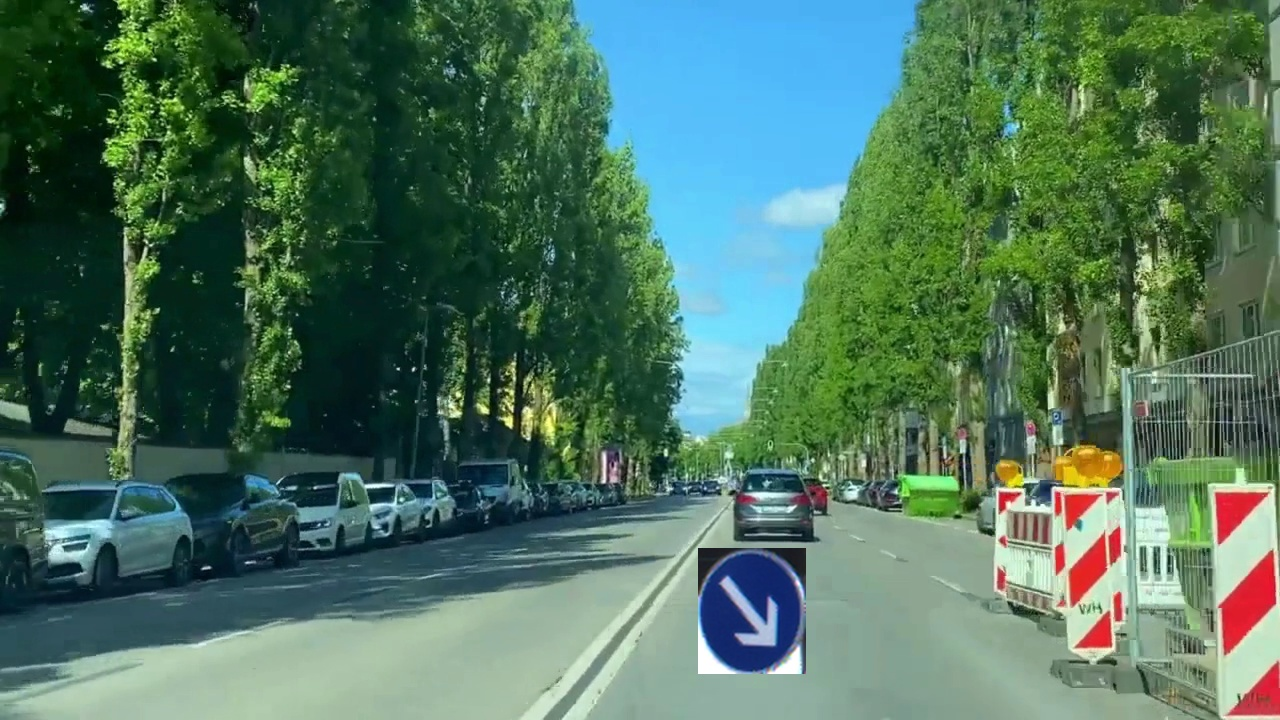Keep right: (698, 548, 806, 674)
